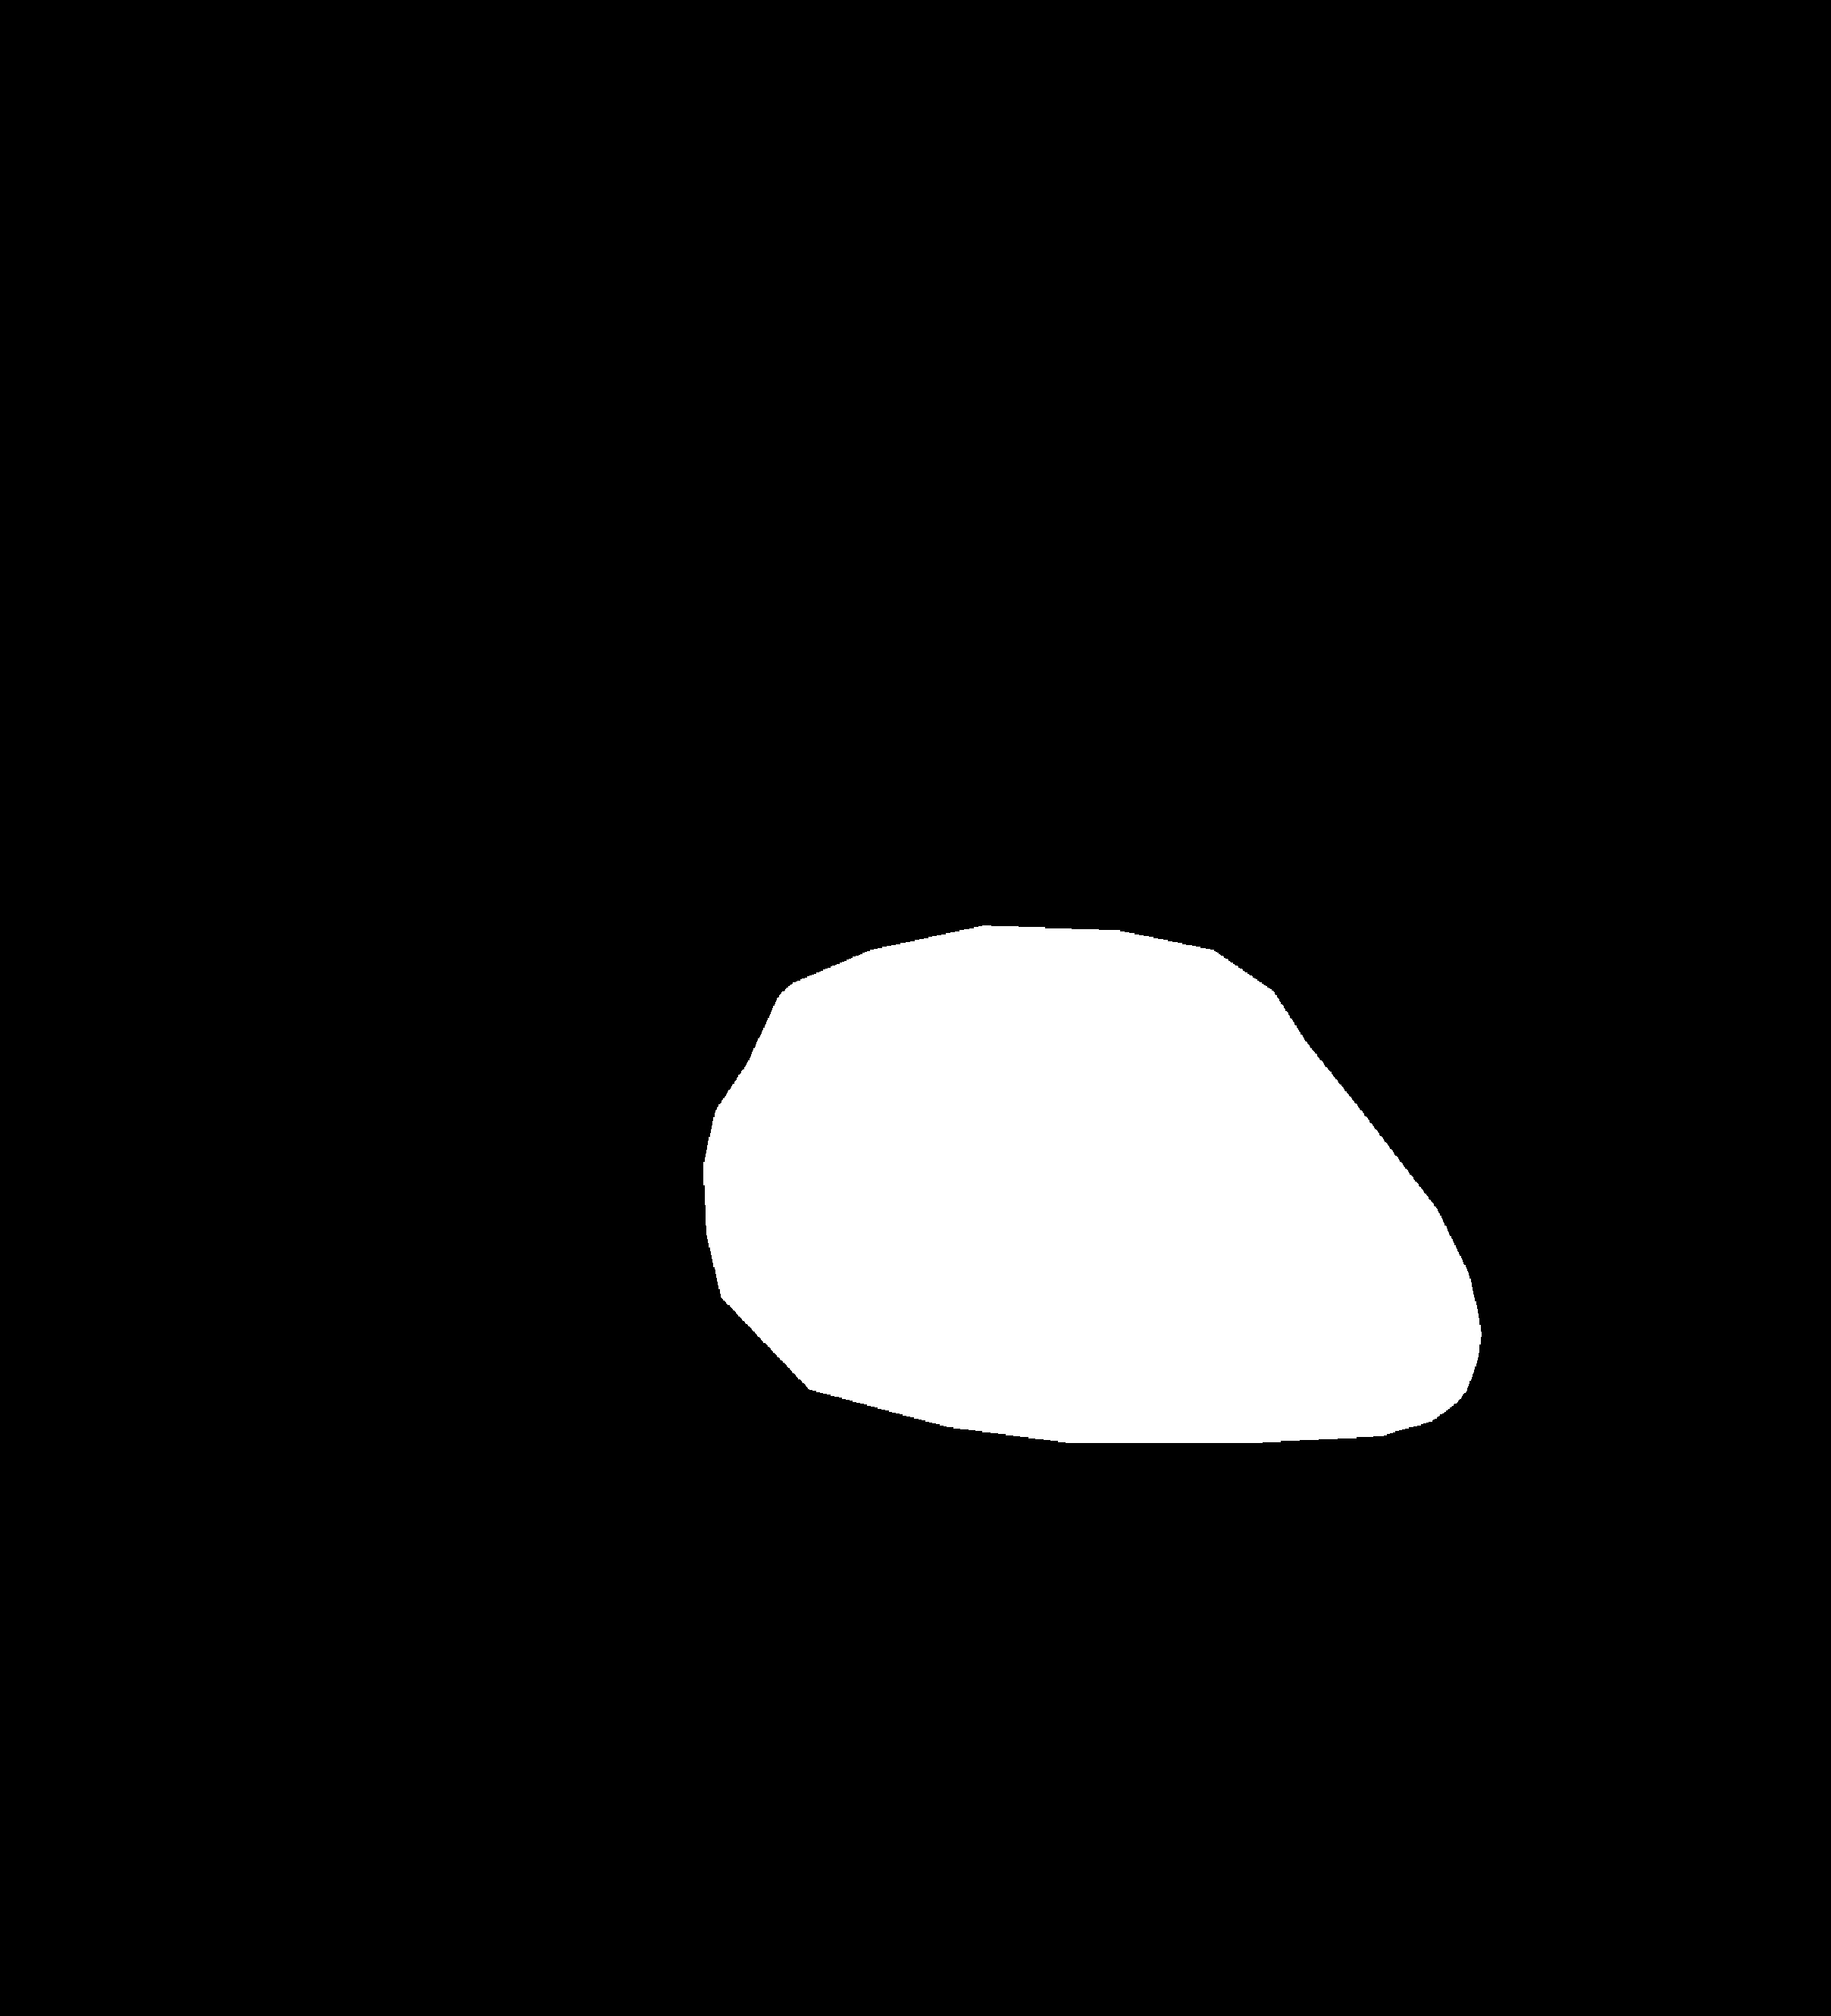heart: (706, 975, 1476, 1433)
left_lung: (239, 205, 843, 1426)
right_lung: (1001, 234, 1587, 1463)
